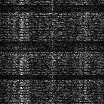wifi: (1, 12, 104, 40), (1, 51, 104, 74), (1, 81, 104, 104), (1, 1, 104, 4)
